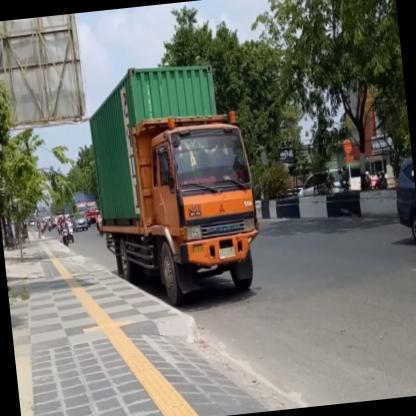truck: (141, 116, 267, 303)
